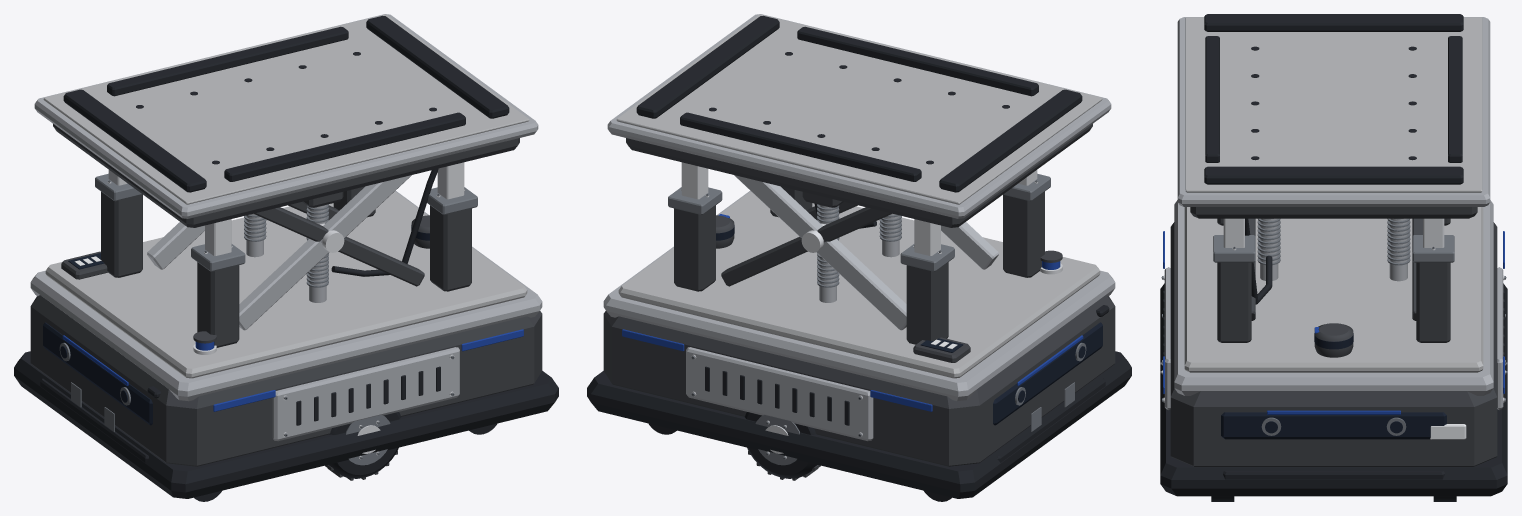
File: asset.glb
3 views of the same model, side by side, from view 1: azimuth 30°, elevation 25°; view 2: azimuth 150°, elevation 25°; view 3: azimuth 270°, elevation 25° (orthographic). The views are drawn at different scales.
Visible parts, largest first — view 1: amr-cart_Pale composite, amr-cart_Graphite powder coat, amr-cart_Brushed steel, amr-cart_Black polymer, amr-cart_Zinc fastener, amr-cart_Smoked sensor glass, amr-cart_Bright machined, amr-cart_Metallic blue; view 2: amr-cart_Pale composite, amr-cart_Graphite powder coat, amr-cart_Brushed steel, amr-cart_Black polymer, amr-cart_Zinc fastener, amr-cart_Smoked sensor glass, amr-cart_Bright machined, amr-cart_Metallic blue; view 3: amr-cart_Pale composite, amr-cart_Graphite powder coat, amr-cart_Black polymer, amr-cart_Brushed steel, amr-cart_Smoked sensor glass, amr-cart_Zinc fastener, amr-cart_Bright machined, amr-cart_Metallic blue, amr-cart_White marking.
Part boxes in pixels (x1,y1,x2,y2): amr-cart_Pale composite: (43,14,529,378); amr-cart_Graphite powder coat: (30,124,542,480); amr-cart_Brushed steel: (30,14,542,441); amr-cart_Black polymer: (14,15,558,501); amr-cart_Zinc fastener: (59,173,477,465); amr-cart_Smoked sensor glass: (43,225,429,425); amr-cart_Bright machined: (107,162,465,459); amr-cart_Metallic blue: (62,329,523,411); amr-cart_Pale composite: (616,14,1102,378); amr-cart_Graphite powder coat: (603,124,1115,480); amr-cart_Brushed steel: (603,14,1115,441); amr-cart_Black polymer: (587,15,1131,501); amr-cart_Zinc fastener: (668,173,1086,465); amr-cart_Smoked sensor glass: (716,225,1102,425); amr-cart_Bright machined: (680,162,1062,459); amr-cart_Metallic blue: (622,214,1083,411); amr-cart_Pale composite: (1184,17,1483,372); amr-cart_Graphite powder coat: (1170,207,1497,466); amr-cart_Black polymer: (1160,14,1507,501); amr-cart_Brushed steel: (1164,17,1503,410); amr-cart_Smoked sensor glass: (1221,333,1446,439); amr-cart_Zinc fastener: (1160,218,1507,435); amr-cart_Bright machined: (1162,218,1505,402); amr-cart_Metallic blue: (1163,231,1504,414); amr-cart_White marking: (1430,424,1466,439).
Bounding box in the file's own units: 1 × 0.8 × 0.75.
